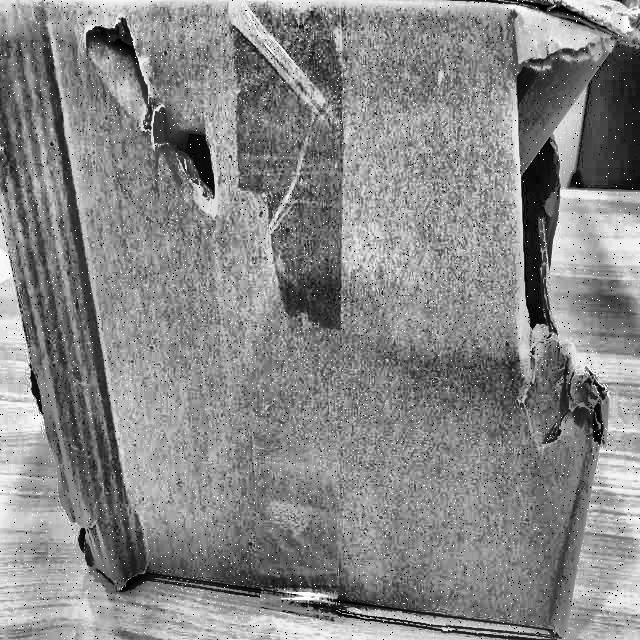box: (1, 0, 640, 639)
hole: (482, 42, 596, 406), (84, 7, 148, 121), (164, 96, 220, 220)
